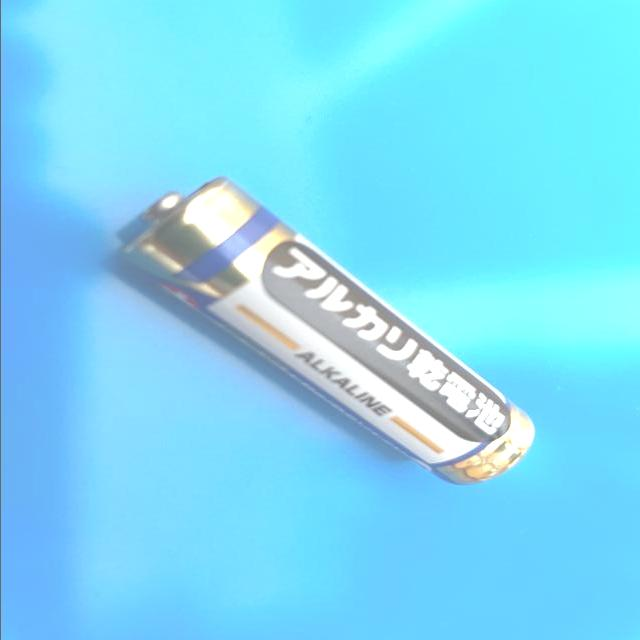AA: (116, 176, 536, 488)
